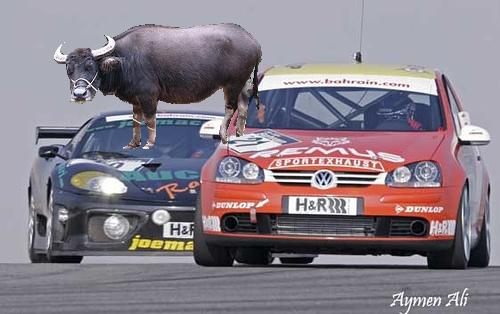tampered: (55, 24, 262, 149)
